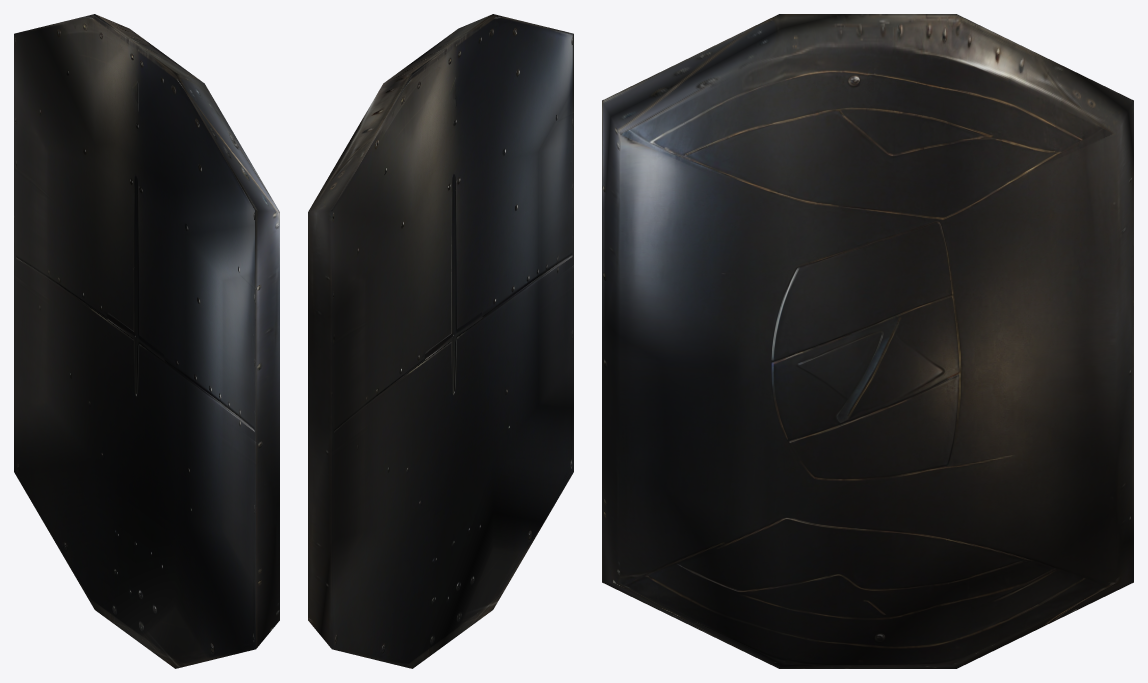
File: shield.fbx
3 views of the same model, side by side, from view 1: azimuth 30°, elevation 25°; view 2: azimuth 150°, elevation 25°; view 3: azimuth 270°, elevation 25° (orthographic). The views are drawn at different scales.
Visible parts, largest first — view 1: Cube; view 2: Cube; view 3: Cube.
Boxes of the visible parts, bbox=[...] form: Cube: bbox=[14, 14, 279, 668]; Cube: bbox=[308, 14, 573, 668]; Cube: bbox=[602, 14, 1133, 668].
Size of the model in its own units: 18.02 by 200 by 147.
Materials: 1 (1 with a texture image).
